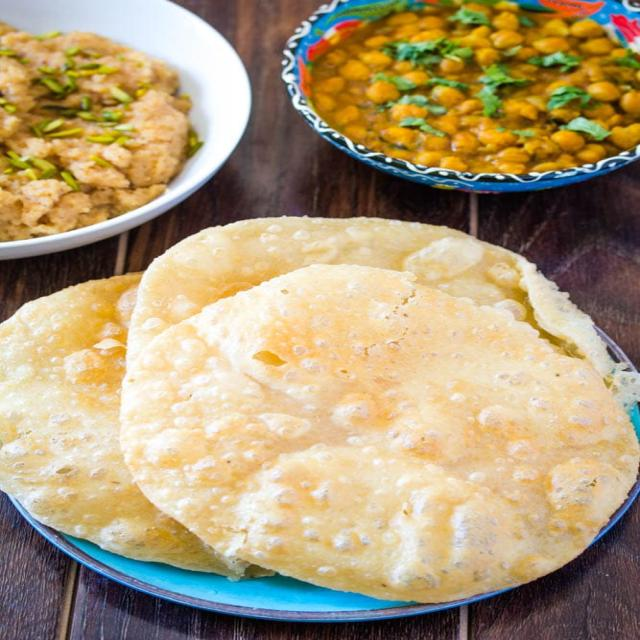poori: (115, 254, 640, 592), (141, 209, 640, 338), (0, 271, 151, 586)
